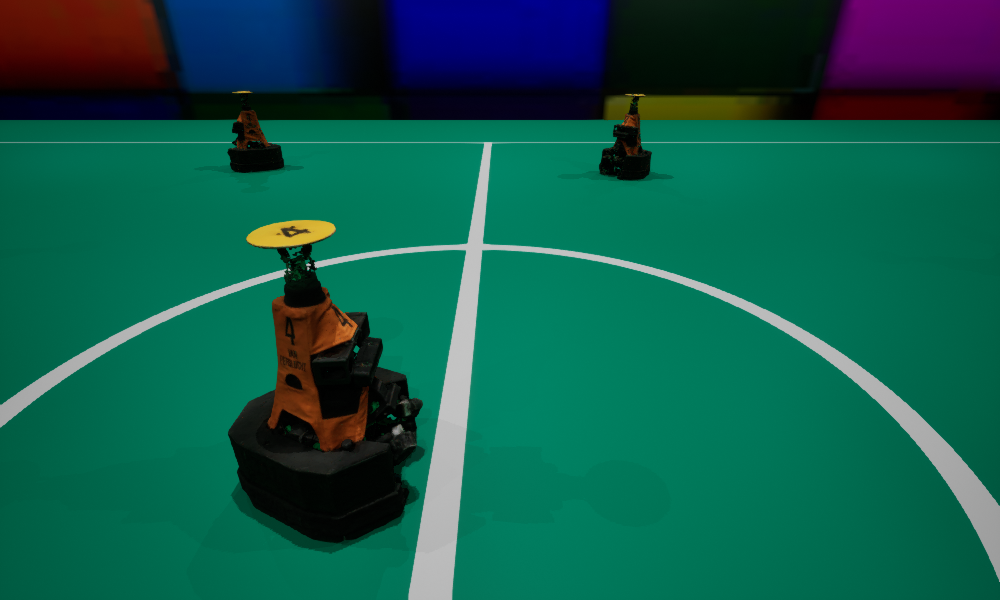0 orange robot TechUnited: (228, 220, 422, 542), (227, 91, 283, 171), (599, 94, 651, 179)
